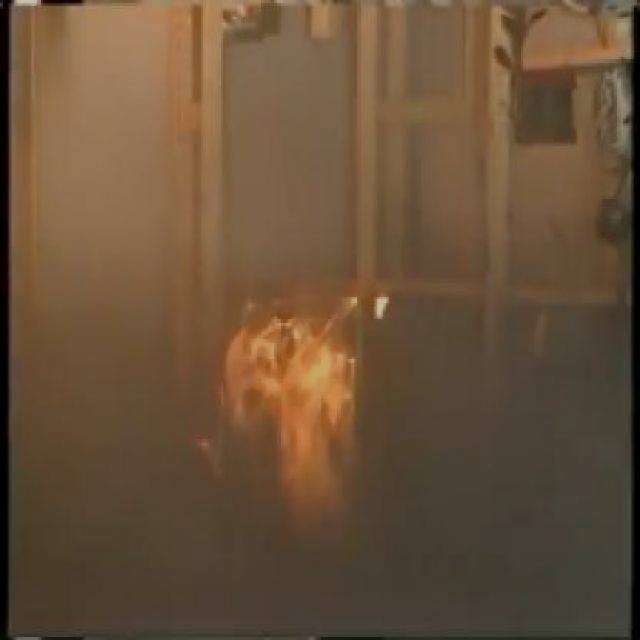fire: (200, 296, 390, 518)
